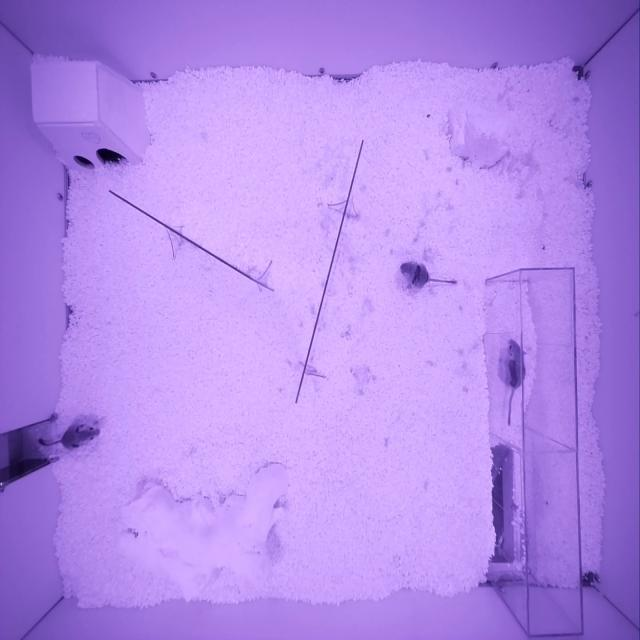pup_h_stripe: (399, 261, 428, 289)
pup_spotted: (60, 423, 101, 451)
pup_v_stripe: (504, 339, 528, 387)
